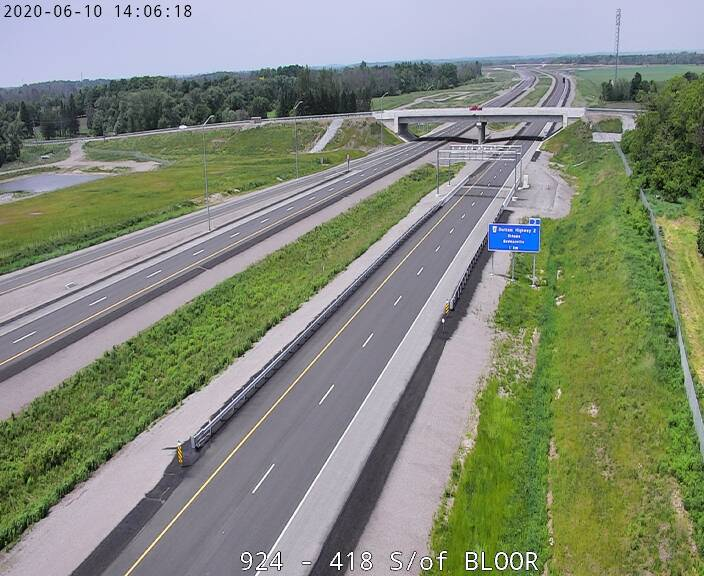time_stamp: (1, 2, 198, 25)
